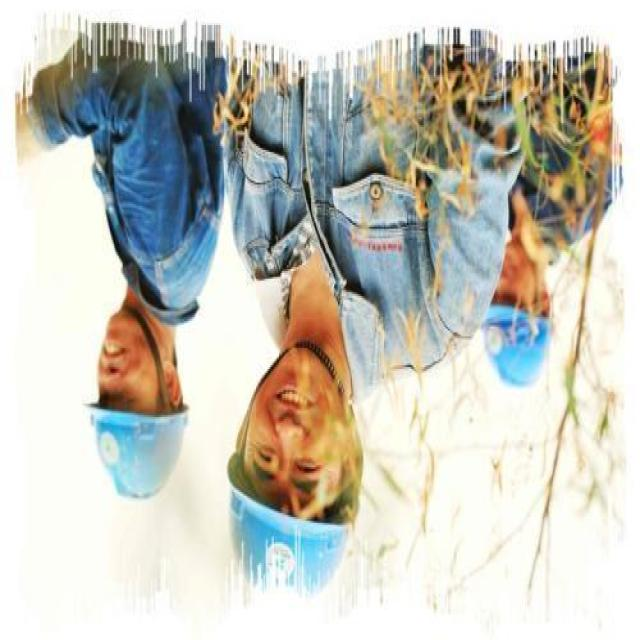helmet: (218, 466, 368, 614), (76, 410, 192, 496), (472, 304, 548, 406)
